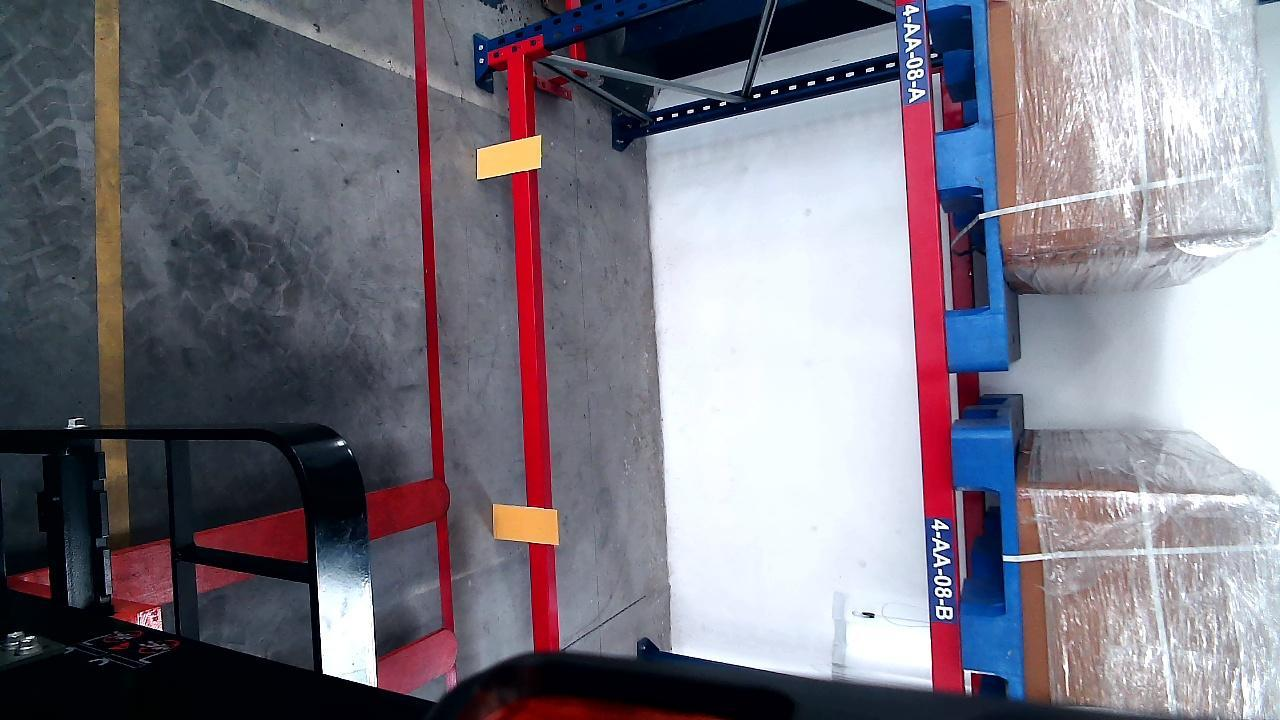red_line: (414, 0, 459, 629)
yellow_line: (91, 0, 129, 541)
